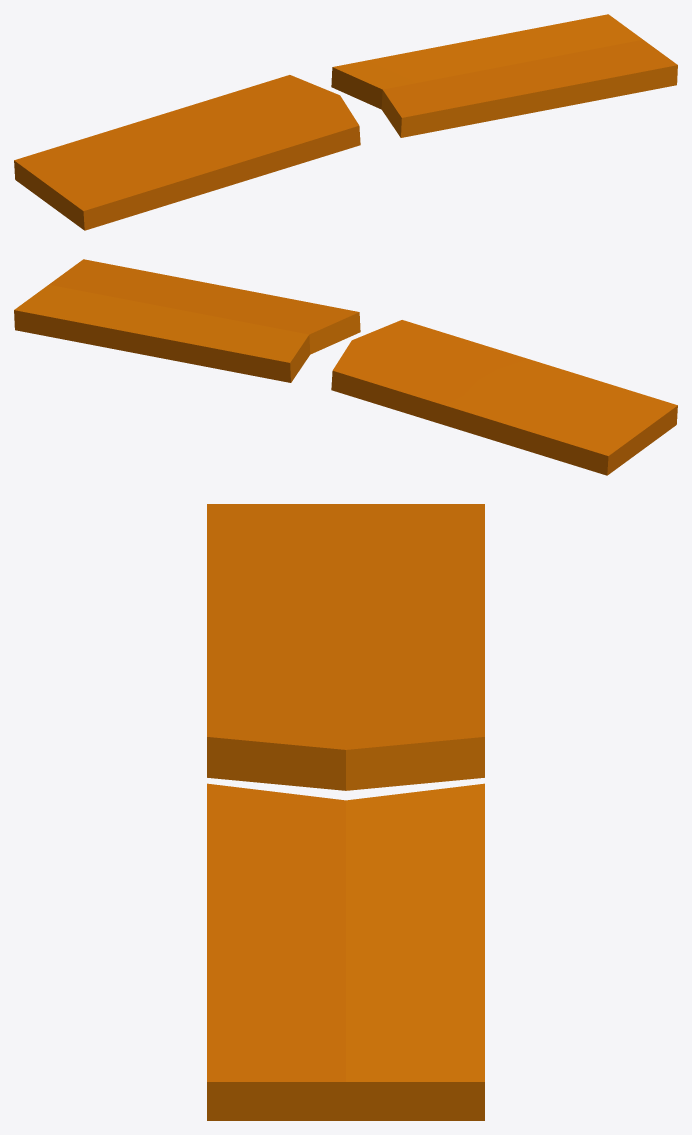
Rendered from Broken_plank_12.fbx.
3 renders of one model, top to bottom at view 1: azimuth 30°, elevation 25°; view 2: azimuth 150°, elevation 25°; view 3: azimuth 270°, elevation 25°, orthographic. The views are drawn at different scales.
Parts seen in each view (by area): view 1: Cube.080, Cube.079; view 2: Cube.080, Cube.079; view 3: Cube.079, Cube.080.
Boxes of the visible parts, x1=… form: Cube.080: x1=14, y1=75, x2=360, y2=230; Cube.079: x1=331, y1=14, x2=677, y2=137; Cube.080: x1=331, y1=320, x2=677, y2=475; Cube.079: x1=14, y1=259, x2=360, y2=382; Cube.079: x1=207, y1=783, x2=484, y2=1120; Cube.080: x1=207, y1=504, x2=484, y2=790.
Size of the model in its own units: 64.51 by 4.06 by 13.07.
